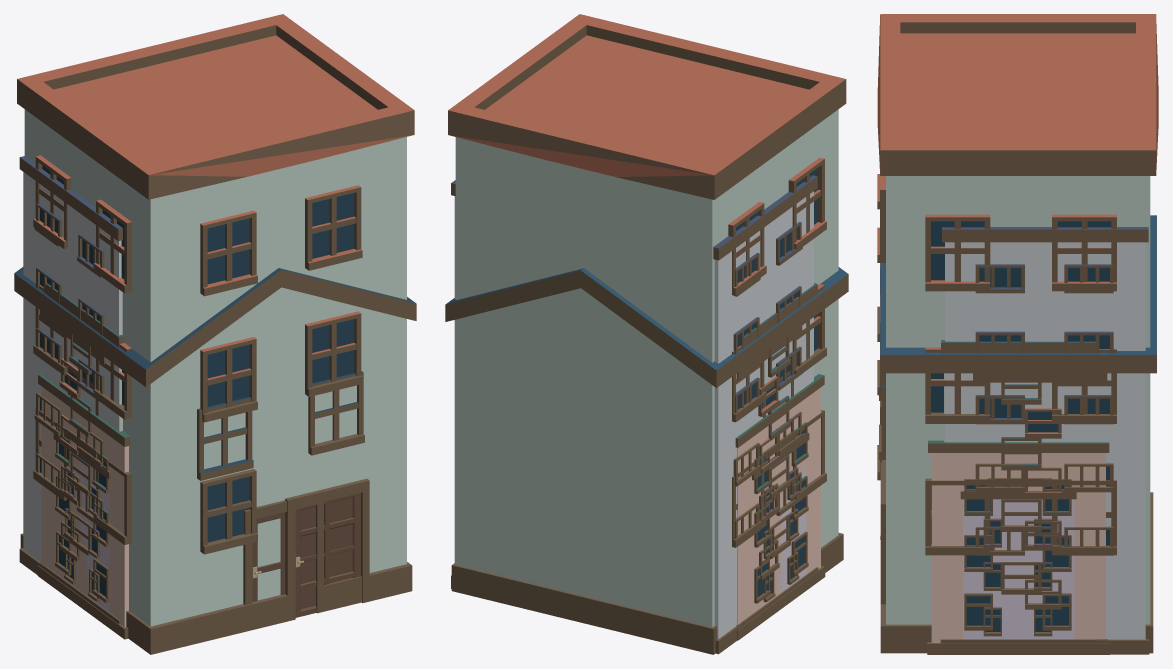
File: simple-houses.glb
3 views of the same model, side by side, from view 1: azimuth 30°, elevation 25°; view 2: azimuth 150°, elevation 25°; view 3: azimuth 270°, elevation 25° (orthographic). The views are drawn at different scales.
Visible parts, largest first — view 1: Cube010, Cube015, Cube008, Cube004, Cube009, Cube013, Cube012; view 2: Cube010, Cube015, Cube004, Cube008, Cube009, Cube013, Cube012; view 3: Cube010, Cube015, Cube004, Cube009, Cube008, Cube013, Cube012.
Part boxes in pixels (bbox=[...]): Cube010: bbox=[17, 14, 414, 654]; Cube015: bbox=[19, 156, 122, 574]; Cube008: bbox=[14, 267, 416, 628]; Cube004: bbox=[37, 374, 130, 639]; Cube009: bbox=[53, 433, 110, 627]; Cube013: bbox=[44, 283, 124, 624]; Cube012: bbox=[40, 310, 105, 566]; Cube010: bbox=[448, 14, 846, 654]; Cube015: bbox=[451, 175, 817, 654]; Cube004: bbox=[735, 374, 825, 640]; Cube008: bbox=[445, 267, 848, 628]; Cube009: bbox=[752, 432, 809, 628]; Cube013: bbox=[742, 283, 818, 625]; Cube012: bbox=[736, 326, 802, 626]; Cube010: bbox=[877, 14, 1158, 653]; Cube015: bbox=[942, 227, 1149, 654]; Cube004: bbox=[927, 440, 1109, 654]; Cube009: bbox=[960, 491, 1076, 654]; Cube008: bbox=[879, 215, 1156, 625]; Cube013: bbox=[940, 340, 1097, 643]; Cube012: bbox=[973, 373, 1107, 640].
Size of the model in its own units: 1 by 1.7 by 0.8574.
